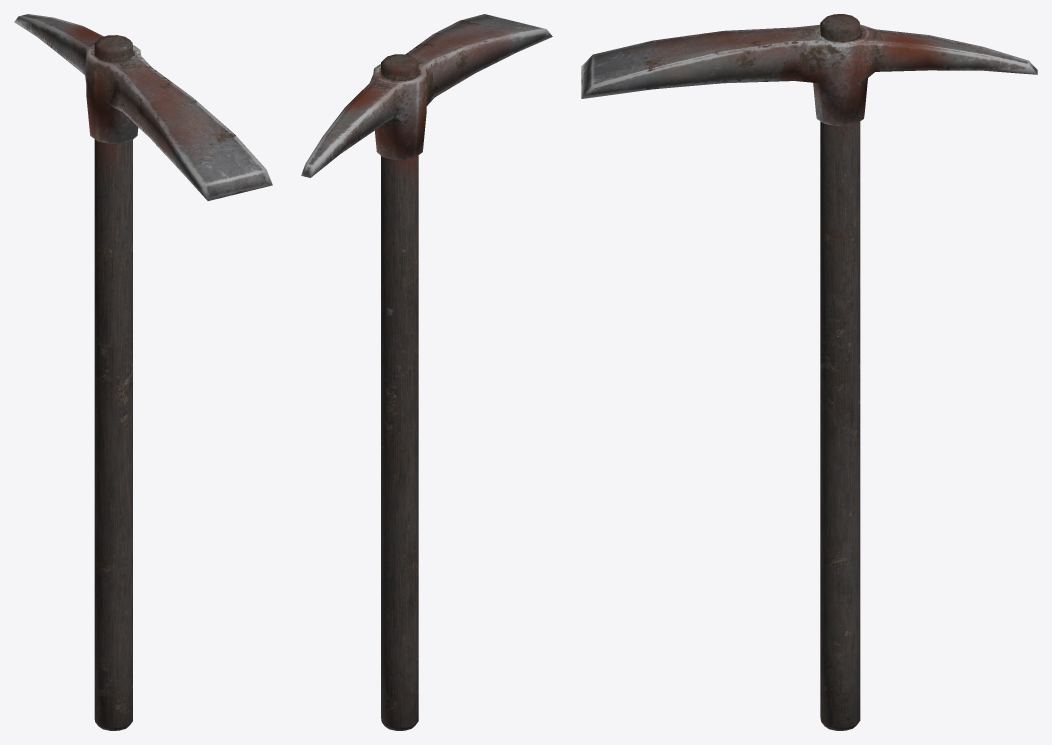
The model's file is Pickaxe.fbx.
3 views of the same model, side by side, from view 1: azimuth 30°, elevation 25°; view 2: azimuth 150°, elevation 25°; view 3: azimuth 270°, elevation 25° (orthographic). The views are drawn at different scales.
Visible parts, largest first — view 1: Pickaxe; view 2: Pickaxe; view 3: Pickaxe.
Part boxes in pixels (x1=…): Pickaxe: x1=14, y1=14, x2=272, y2=730; Pickaxe: x1=301, y1=14, x2=552, y2=730; Pickaxe: x1=581, y1=14, x2=1037, y2=730.
Size of the model in its own units: 5 by 50.1 by 29.49.
